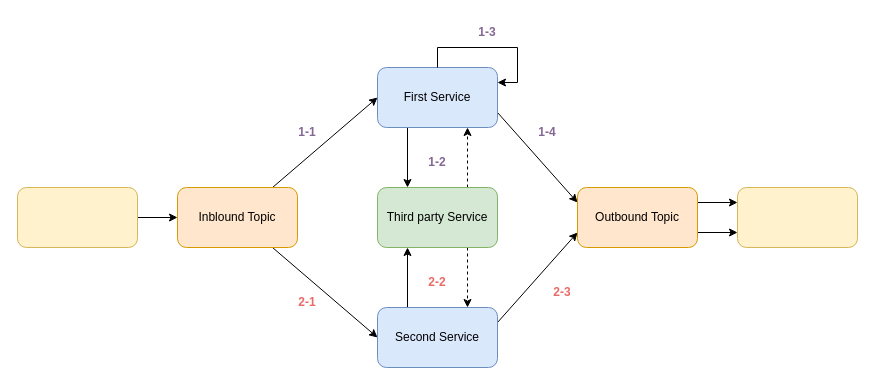
Image size: 875x385. Some labels were removed from this diagram. Here are the shapes that lost their labels. From the top down, the centre of each, then its label:
the point at 77,217: Upstream Service
the point at 797,217: Downstream Service
